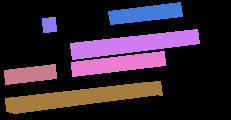parkingspot: (5, 81, 162, 113), (70, 29, 199, 59), (71, 51, 165, 76), (108, 2, 182, 24), (4, 64, 56, 84), (42, 17, 56, 32)
